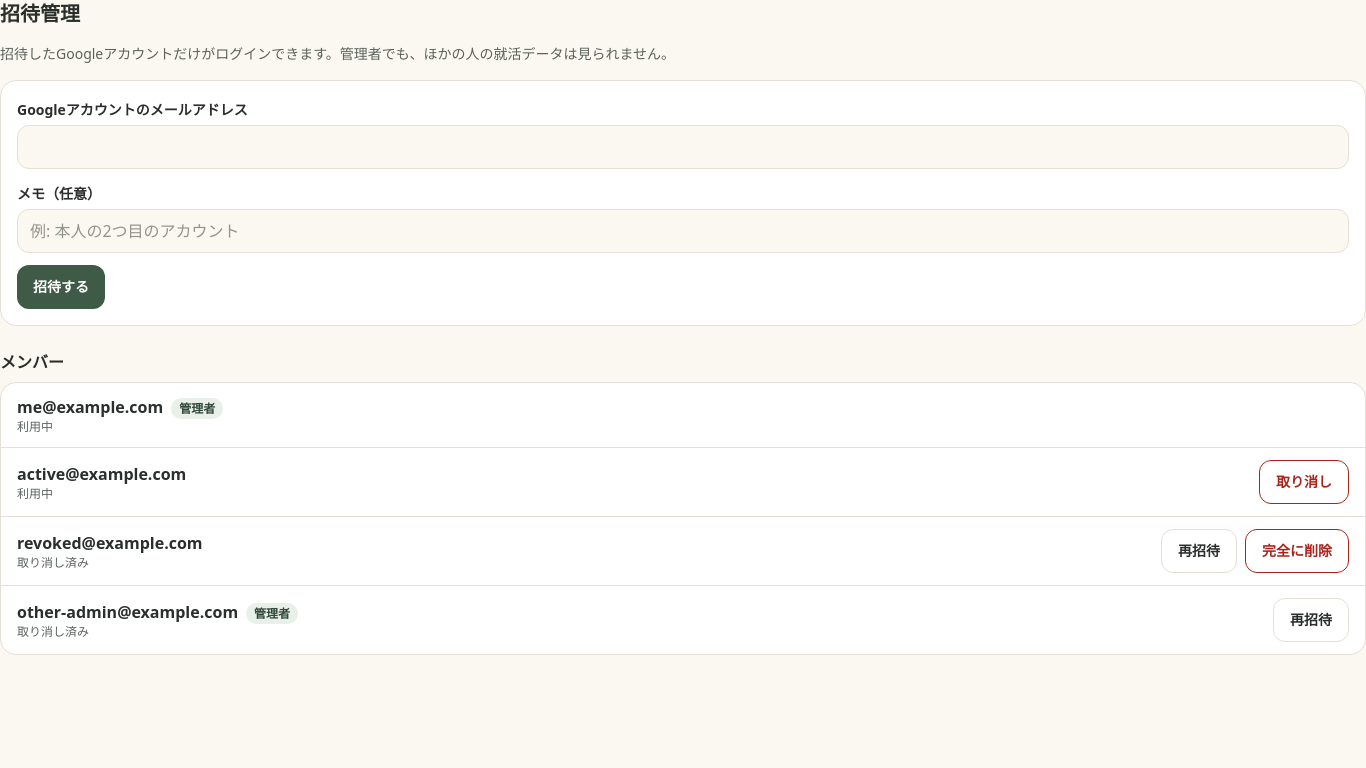
招待管理: 完全削除 › 二重確認を経て、対象メールと再入力したメールでRPCを呼ぶ
Check: the text "revoked@example.com" is shown, box [17,531,203,555]
Click the button "完全に削除".
click(1297, 551)  # box [1245,529,1349,573]
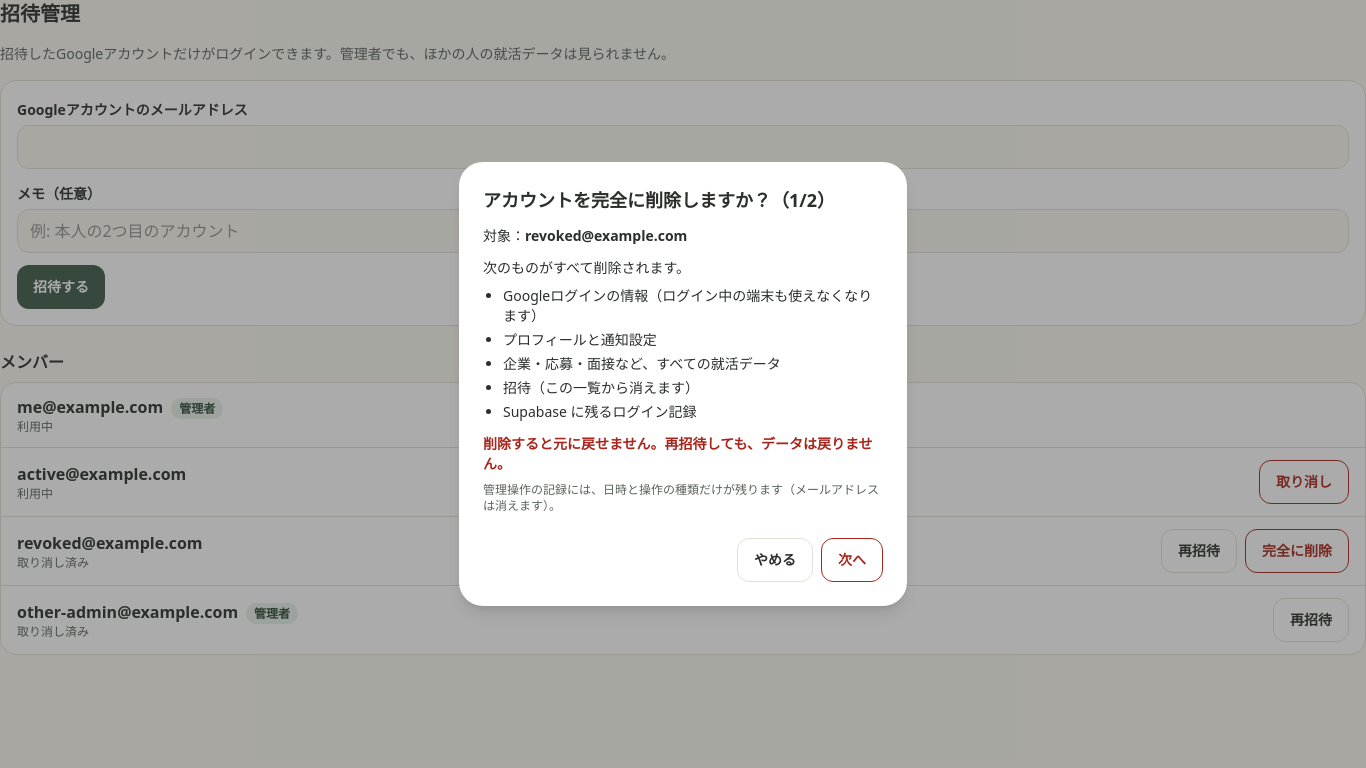
Click the button "次へ".
click(852, 560)  # box [821,538,883,582]
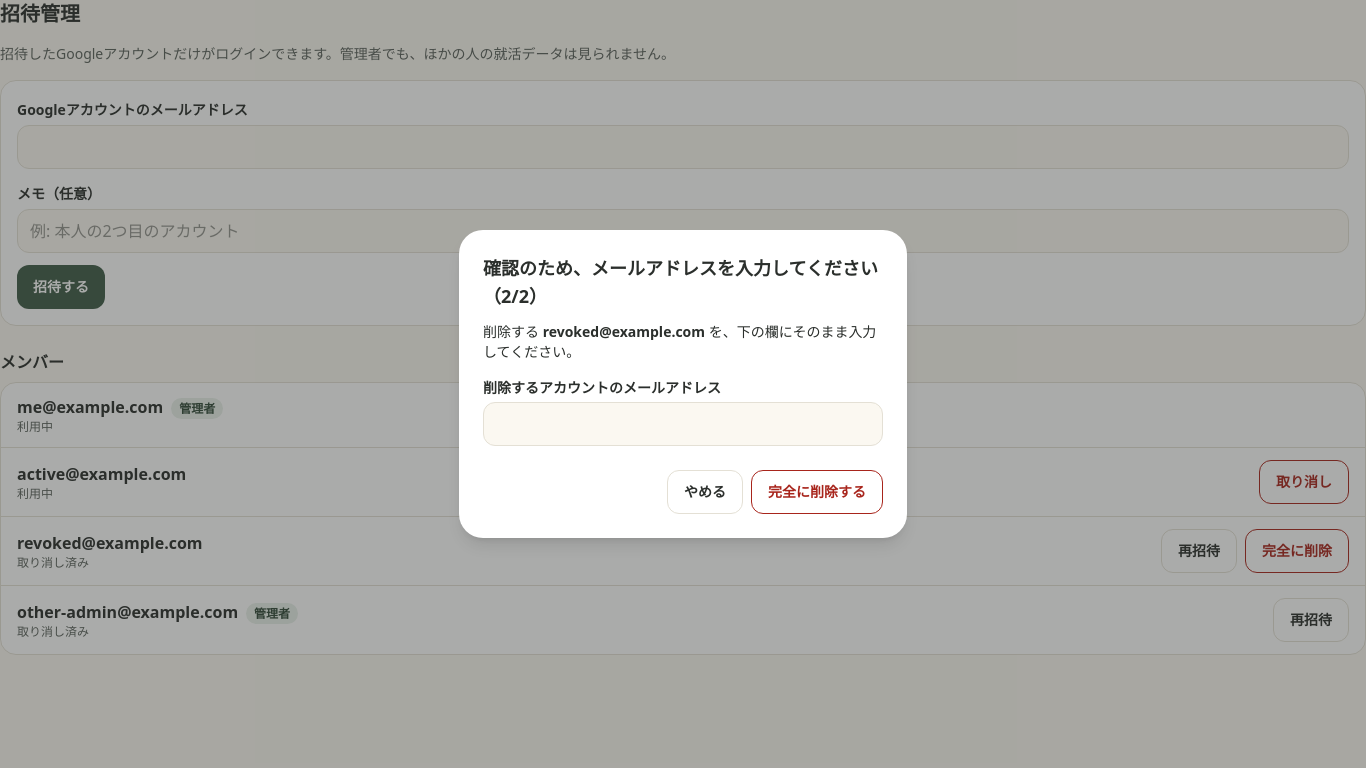
Type "Revoked@example.com" into the field labelled "削除するアカウントのメールアドレス".
click(683, 424); type("Revoked@example.com")  # box [483,402,883,446]
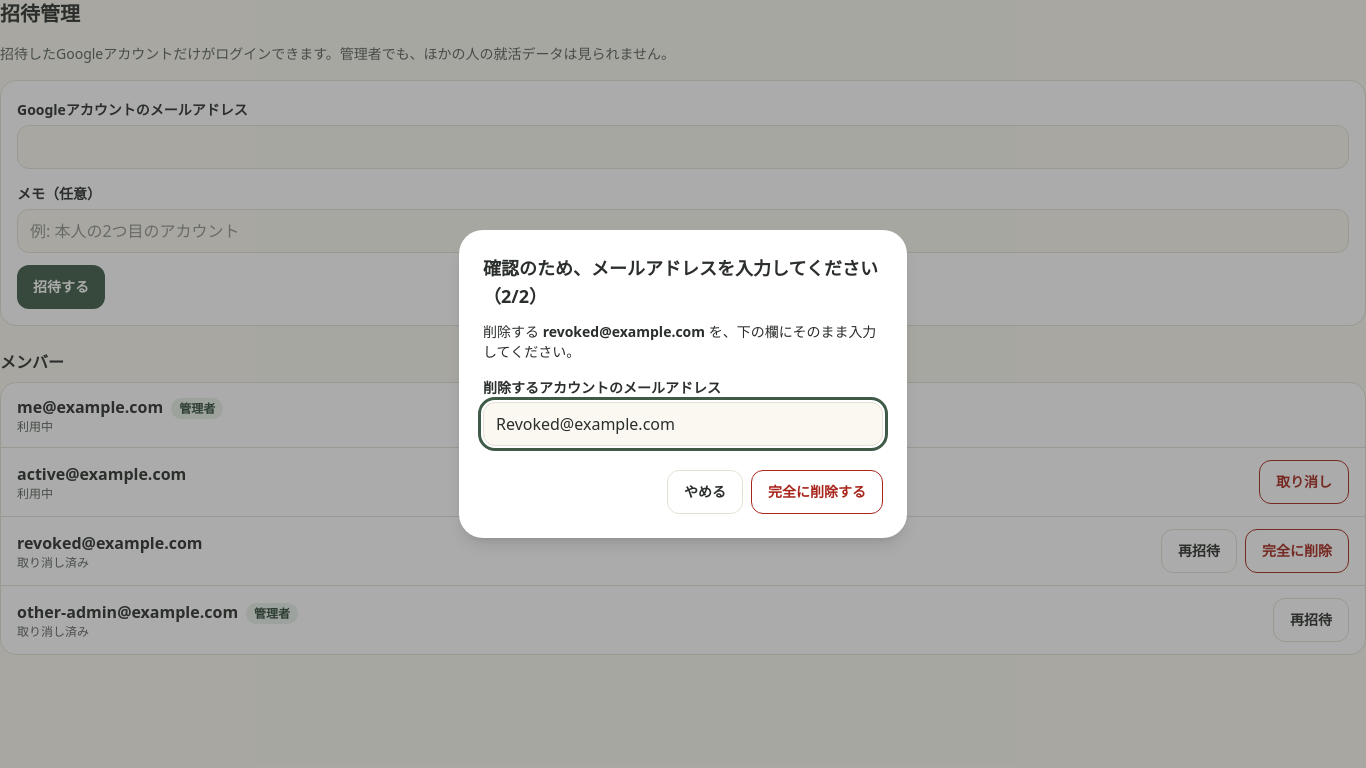
Click the button "完全に削除する".
click(817, 492)  # box [751,470,883,514]
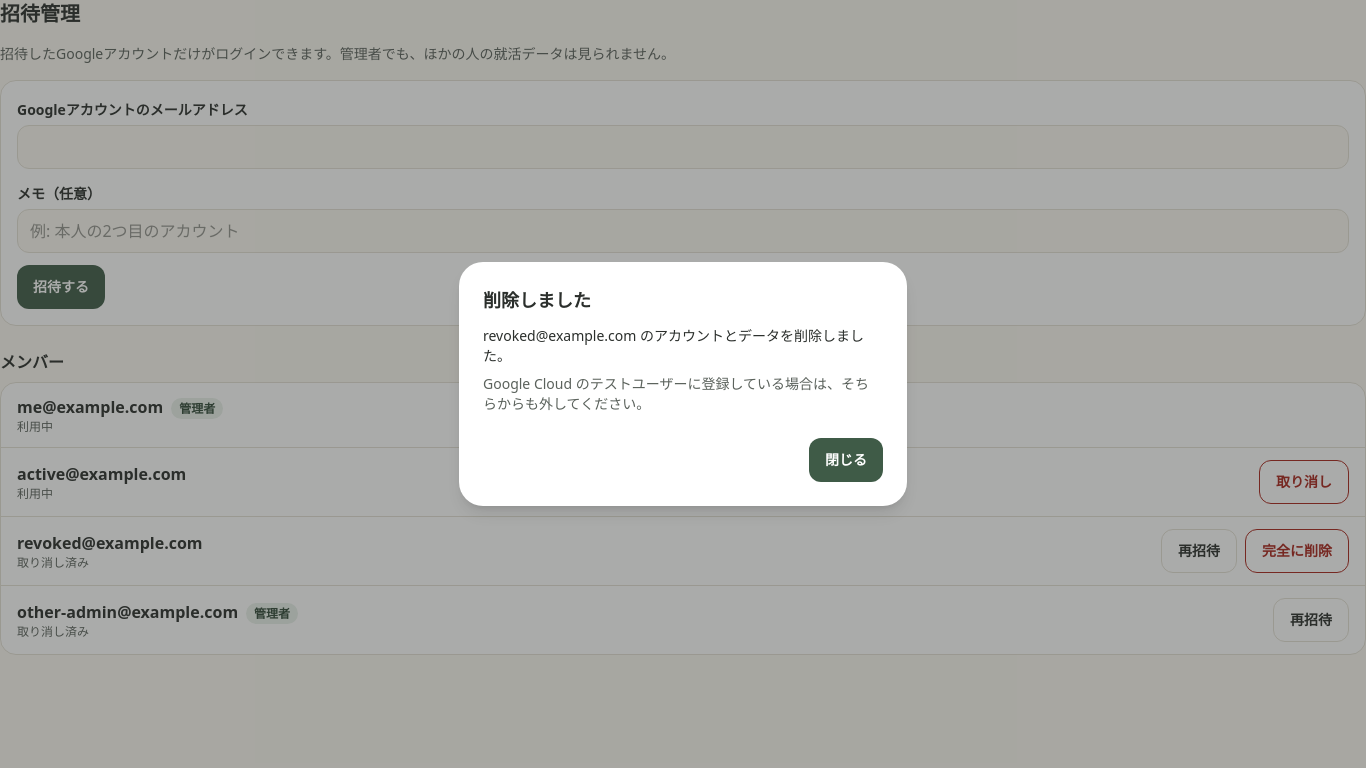
Check: the heading "削除しました" is shown, box [483,288,591,312]
